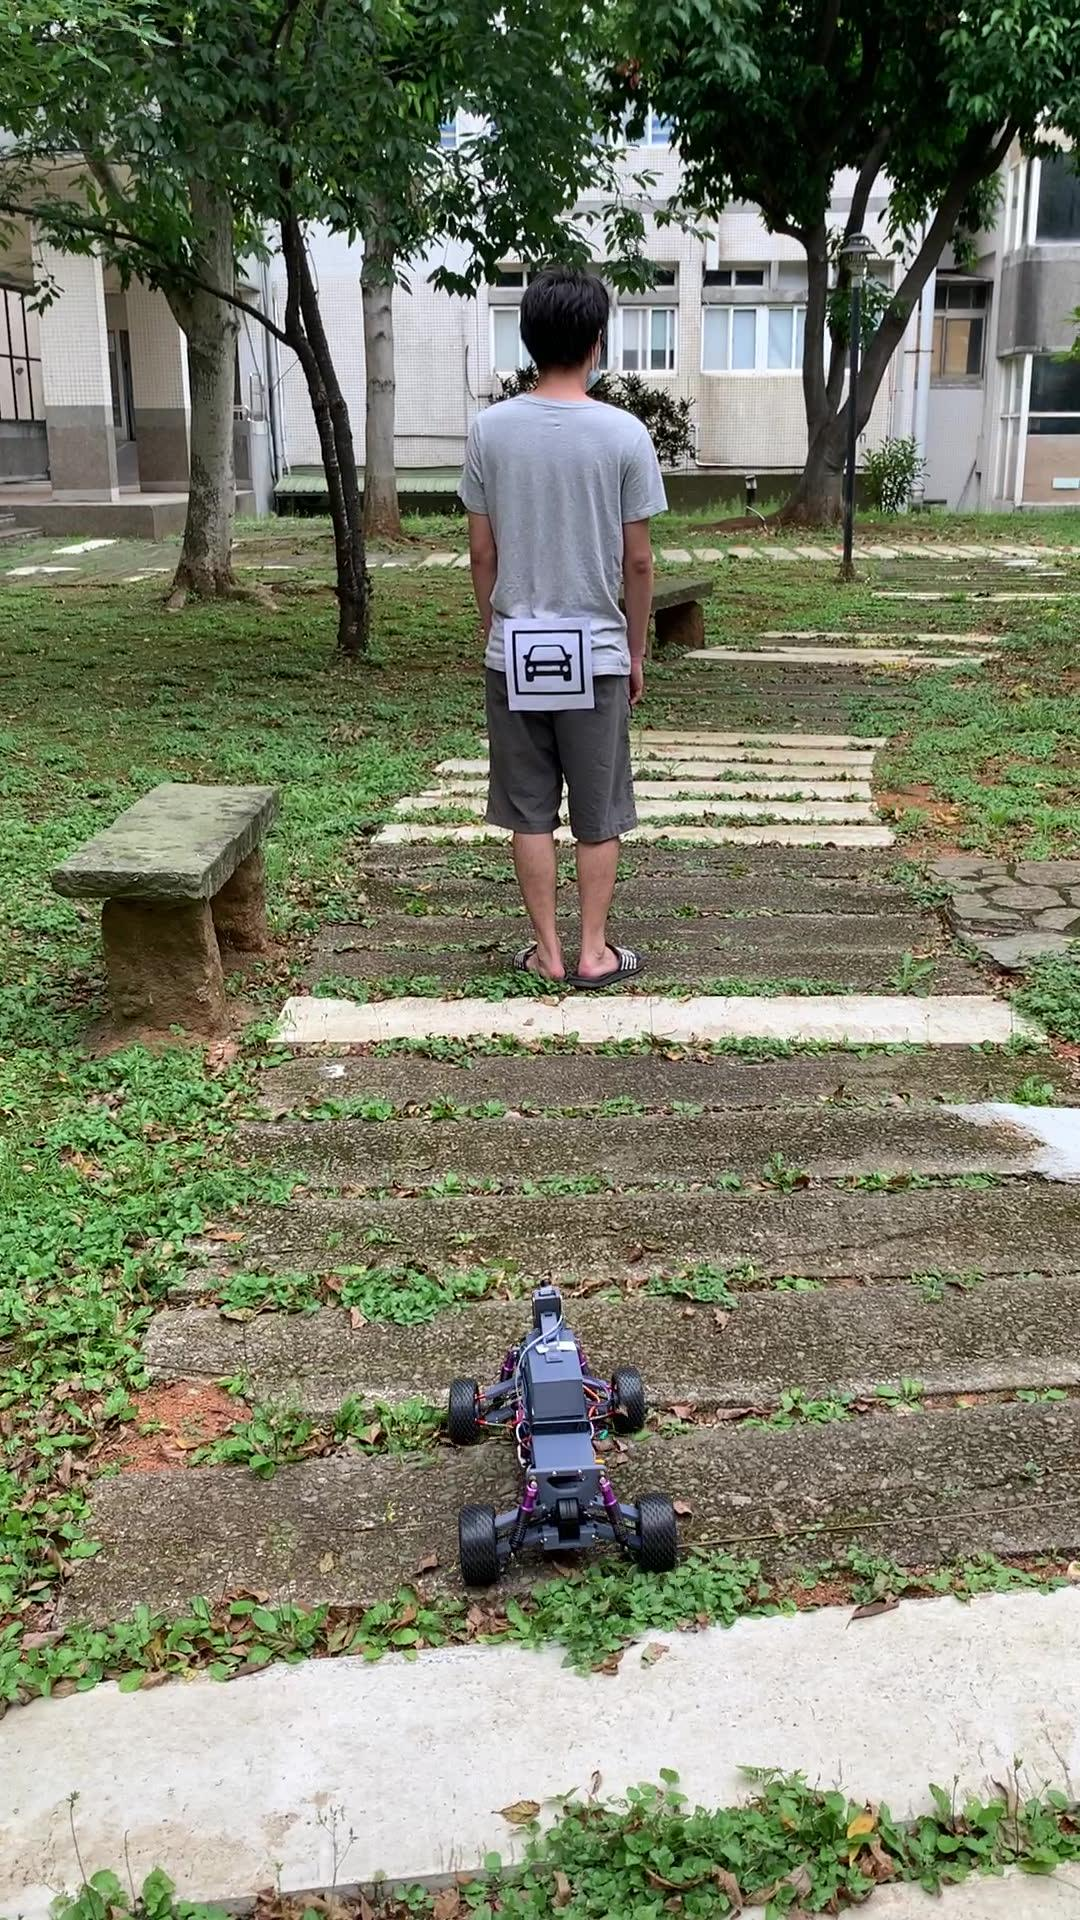car_img: (512, 629, 585, 696)
